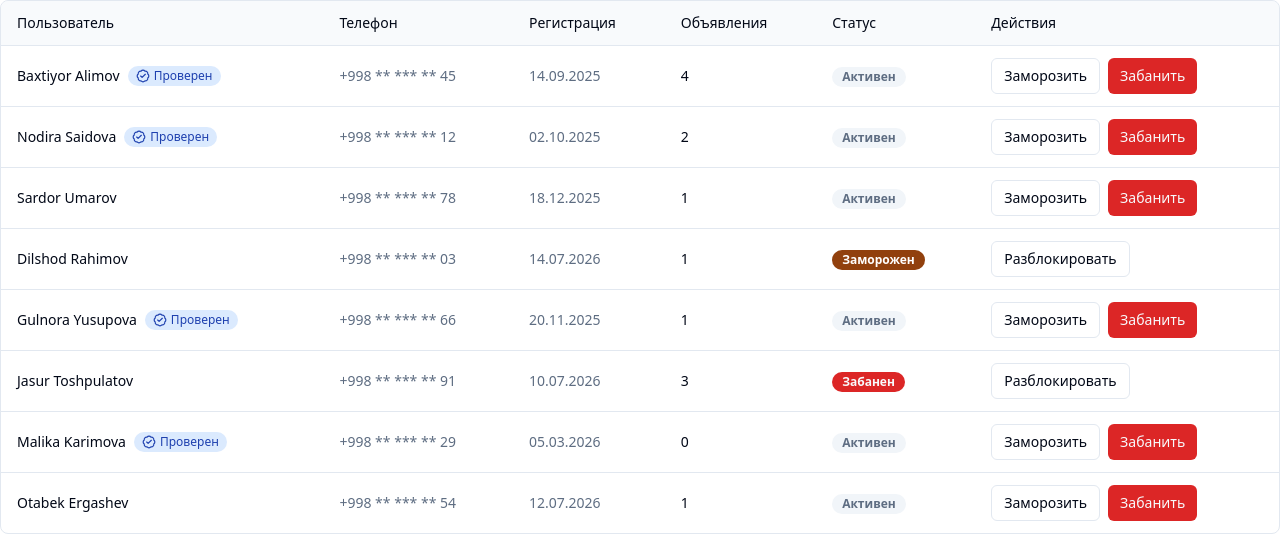
banning an active user swaps the row to «Забанен» with a restore button
The width and height of the screenshot is (1280, 551).
Expected: the text "Baxtiyor Alimov" is shown, top-left (17, 66), bottom-right (120, 86)
What coordinates should you click on to do the following:
click the button "Забанить" in the row of "Baxtiyor Alimov"
I would click on:
 (1153, 76)
Its box is top-left (1108, 58), bottom-right (1197, 94).
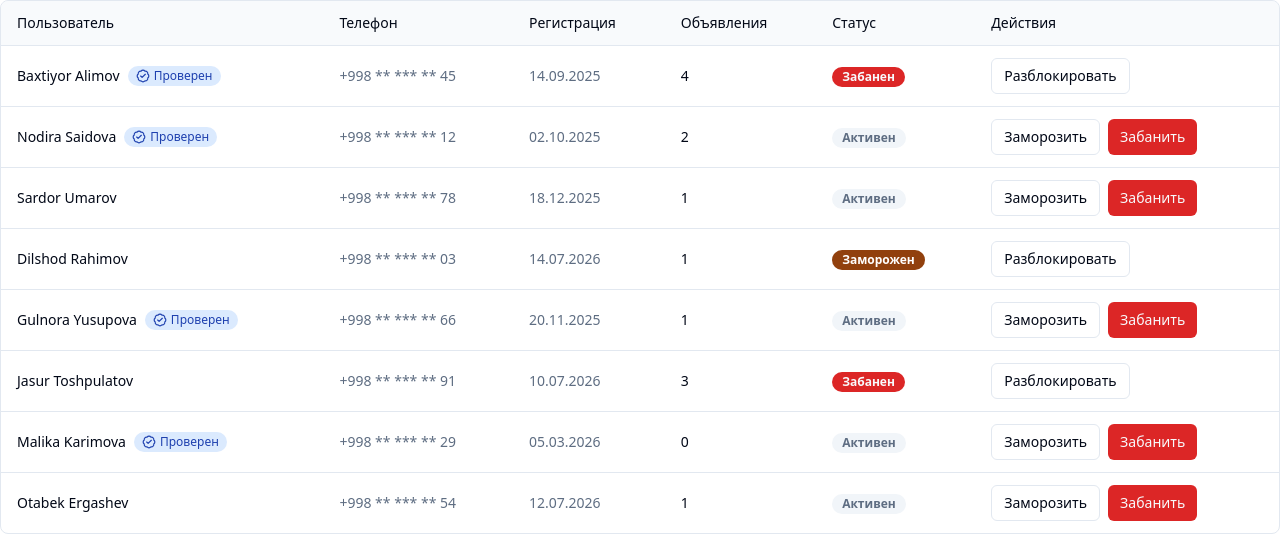
Now the text "Забанен" in the row of "Baxtiyor Alimov" is shown, box top-left (842, 68), bottom-right (895, 84)
Now the button "Разблокировать" in the row of "Baxtiyor Alimov" is shown, box top-left (991, 58), bottom-right (1130, 94)
